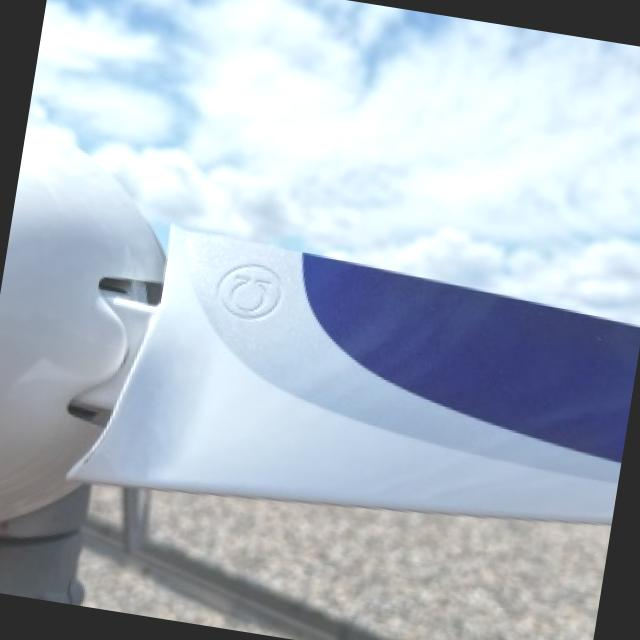healthy: (0, 125, 640, 603)
